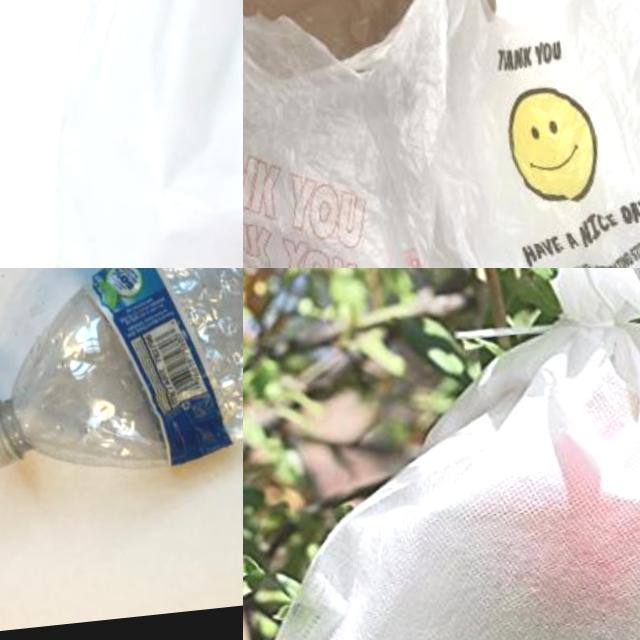garrafa plástica: (0, 268, 243, 480)
sacola plástica: (243, 268, 640, 640), (243, 0, 488, 268), (0, 0, 243, 268), (417, 0, 640, 268), (243, 0, 541, 69)
tampa plástica: (0, 392, 23, 471)
